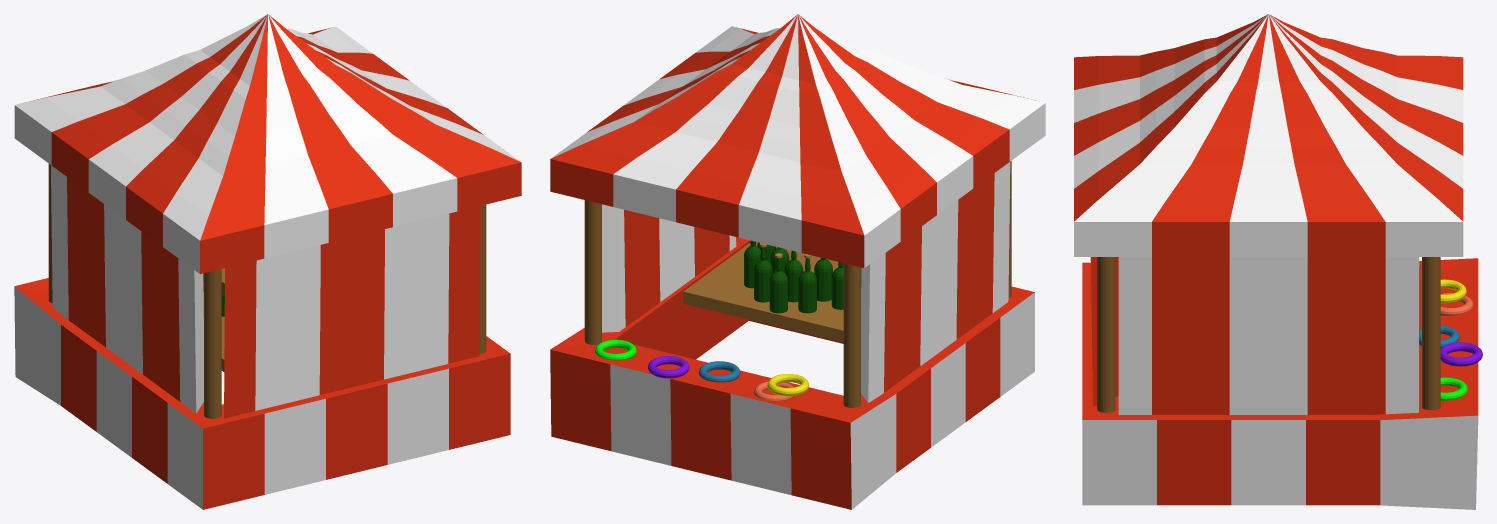
File: juegoBotellas.fbx
3 views of the same model, side by side, from view 1: azimuth 30°, elevation 25°; view 2: azimuth 150°, elevation 25°; view 3: azimuth 270°, elevation 25° (orthographic). The views are drawn at different scales.
Visible parts, largest first — view 1: CarpaJuegoBotellas; view 2: CarpaJuegoBotellas; view 3: CarpaJuegoBotellas.
Part boxes in pixels (x1,y1,x2,y2): CarpaJuegoBotellas: [14, 14, 521, 509]; CarpaJuegoBotellas: [550, 14, 1045, 509]; CarpaJuegoBotellas: [1074, 14, 1482, 509].
Size of the model in its own units: 340 by 402 by 357.
Materials: 5 (5 with a texture image).
